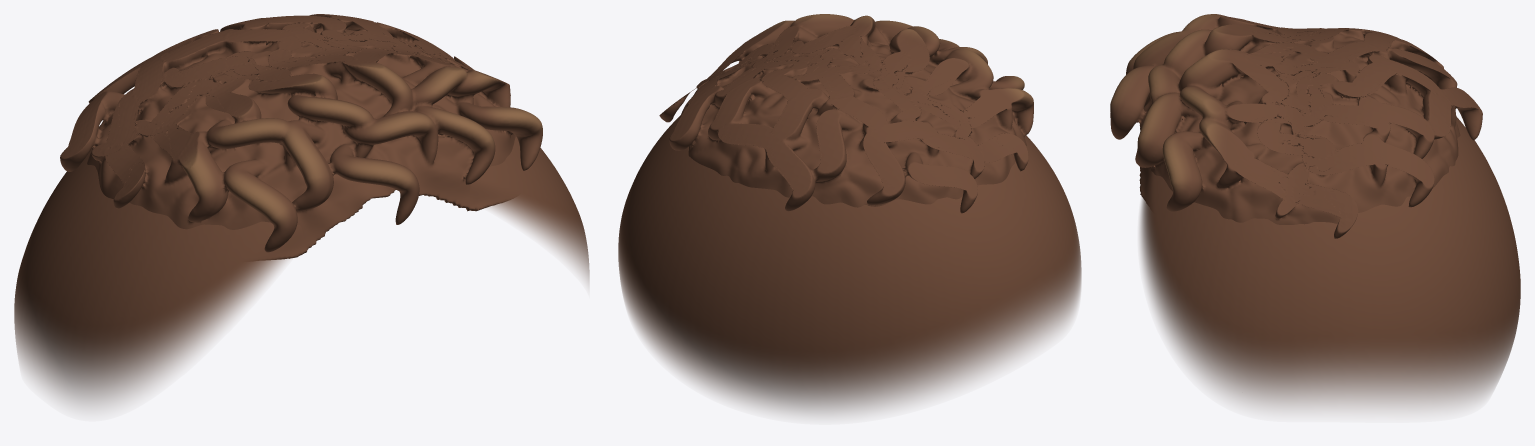
Rendered from Ombre-d300b2738454253-hair.glb.
3 views of the same model, side by side, from view 1: azimuth 30°, elevation 25°; view 2: azimuth 150°, elevation 25°; view 3: azimuth 270°, elevation 25° (orthographic). The views are drawn at different scales.
Visible parts, largest first — view 1: 226 hair / Hair252 / sculpted curl groups.001, 226 hair / Hair252 / curly close fade coverage.001; view 2: 226 hair / Hair252 / curly close fade coverage.001, 226 hair / Hair252 / sculpted curl groups.001; view 3: 226 hair / Hair252 / curly close fade coverage.001, 226 hair / Hair252 / sculpted curl groups.001.
Part boxes in pixels (x1,y1,x2,y2): 226 hair / Hair252 / sculpted curl groups.001: [60, 14, 542, 260]; 226 hair / Hair252 / curly close fade coverage.001: [14, 137, 589, 406]; 226 hair / Hair252 / curly close fade coverage.001: [618, 115, 1081, 414]; 226 hair / Hair252 / sculpted curl groups.001: [659, 14, 1033, 213]; 226 hair / Hair252 / curly close fade coverage.001: [1140, 116, 1520, 409]; 226 hair / Hair252 / sculpted curl groups.001: [1110, 14, 1482, 238].
Size of the model in its own units: 0.976 by 0.697 by 0.762.
2 materials, 2 textured.
